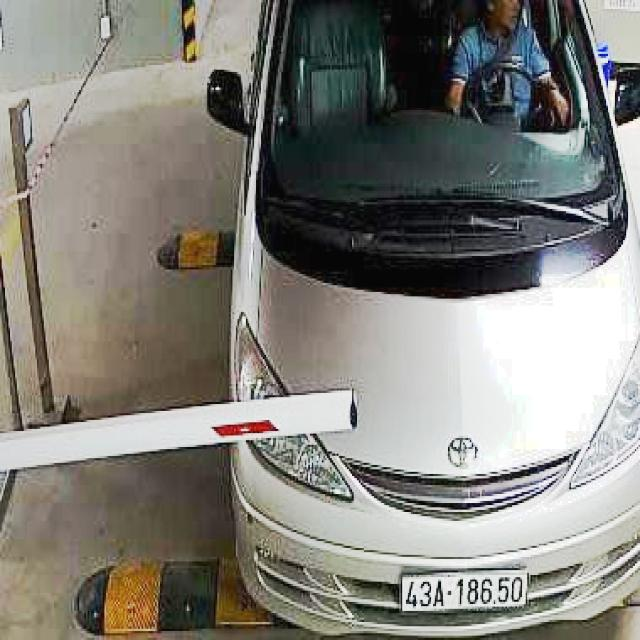license_plate: (404, 572, 528, 611)
